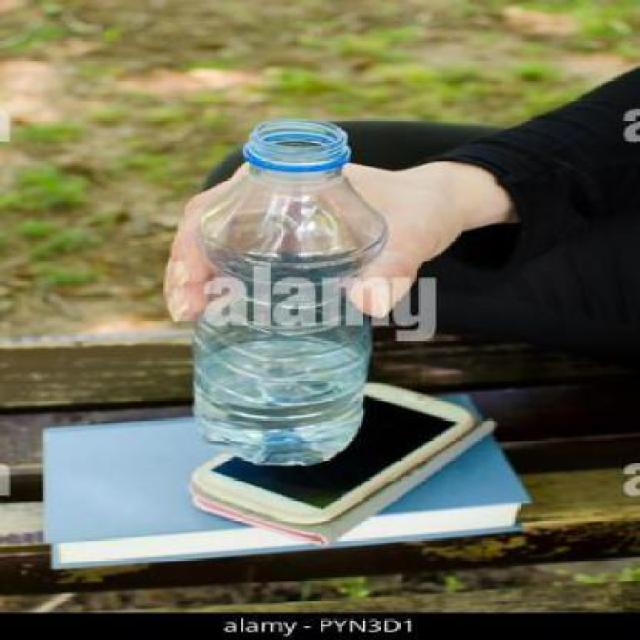bottle: (184, 110, 381, 473)
